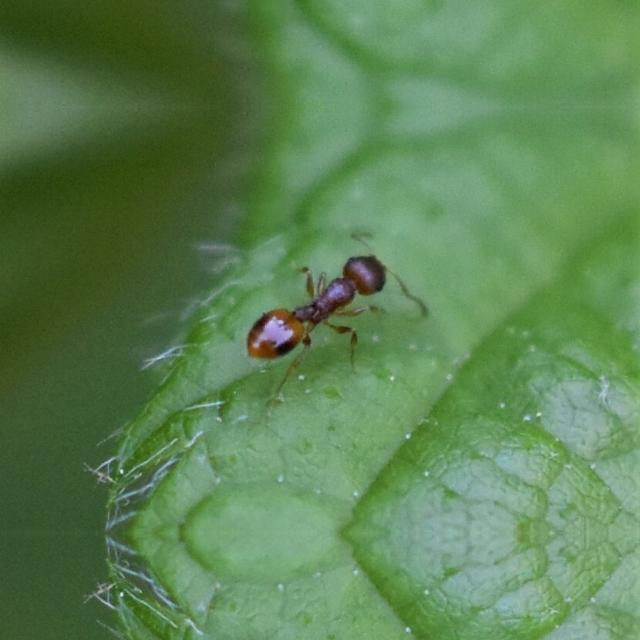Temnothorax: (218, 200, 410, 380)
